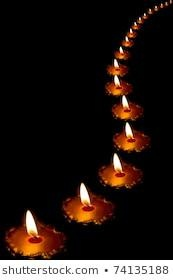fire: (23, 209, 40, 237), (76, 180, 92, 206), (111, 152, 124, 174)
